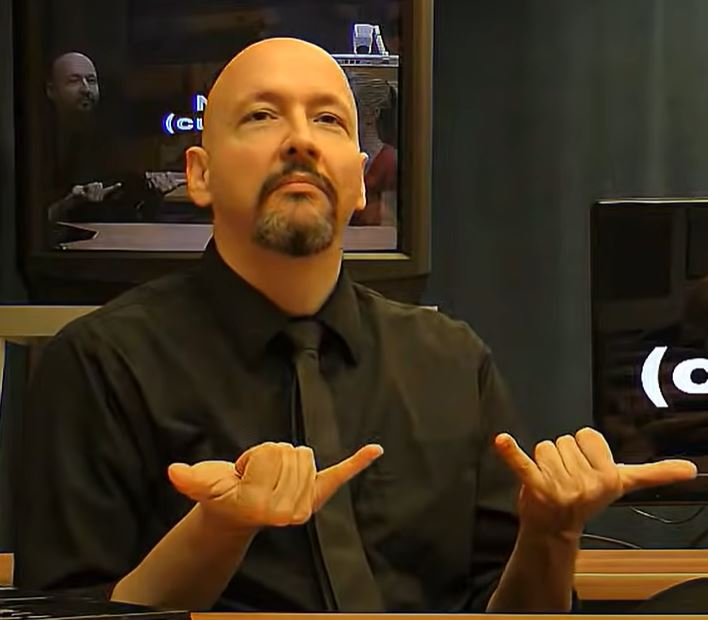Now: (106, 409, 706, 564)
